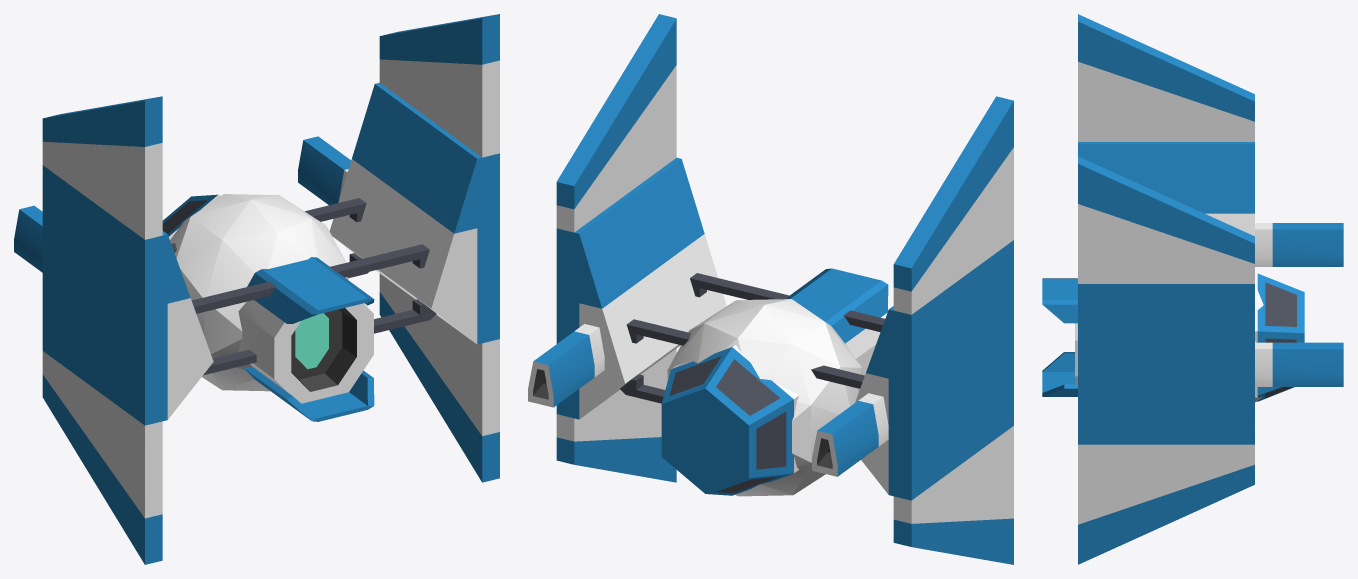
The model's file is tf_centered.obj.
3 renders of one model, left to right at view 1: azimuth 30°, elevation 25°; view 2: azimuth 150°, elevation 25°; view 3: azimuth 270°, elevation 25°, orthographic. The views are drawn at different scales.
Bounding box in the file's own units: 2 × 2.5 × 1.7.
